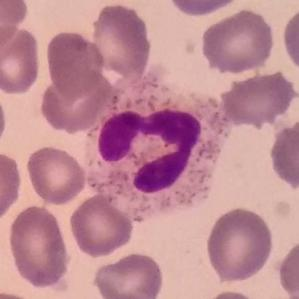Neutrophil: (80, 76, 227, 219)
RBC: (5, 203, 73, 290), (203, 204, 276, 284), (199, 7, 277, 76), (88, 0, 154, 79), (38, 69, 116, 134), (218, 68, 298, 128), (67, 192, 136, 258), (43, 28, 107, 98), (24, 144, 88, 207), (91, 250, 166, 299), (0, 24, 43, 96), (266, 116, 299, 191), (0, 149, 24, 223), (275, 235, 299, 298), (164, 0, 245, 18), (0, 0, 29, 48), (280, 3, 299, 76), (199, 288, 265, 299), (0, 86, 9, 154)
